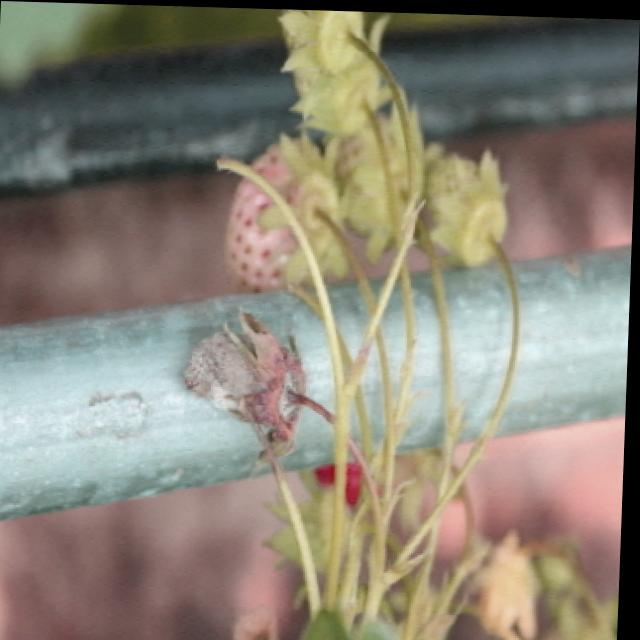Gray Mold: (185, 307, 312, 442)
